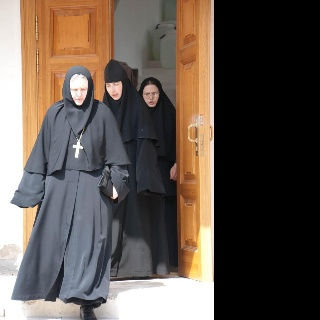without_mask: (70, 76, 87, 104), (106, 80, 119, 99)
